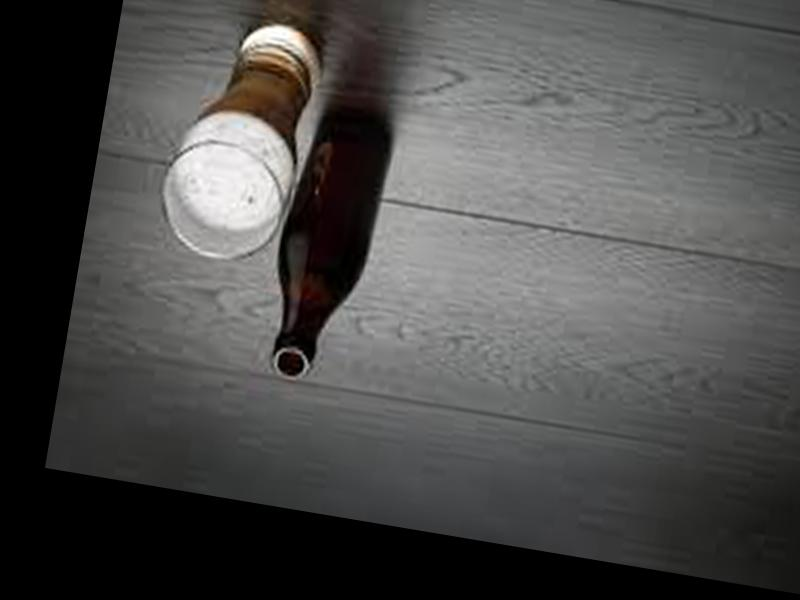Beer: (255, 91, 400, 392)
